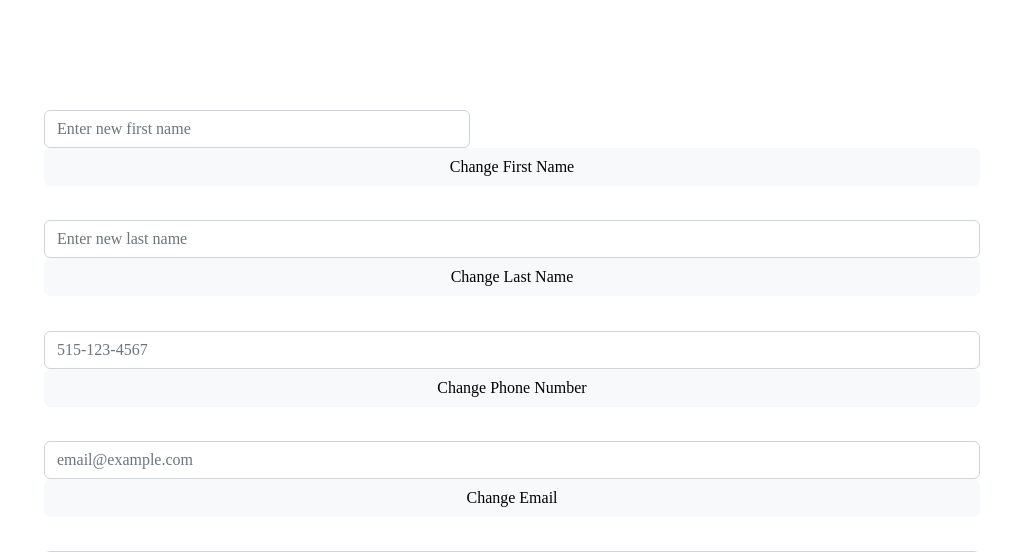
EditUserInfoPage › EditUserInfoPage: Invalid last name input
// input text into lastNameInput
In the field with placeholder "Enter new last name": (512, 240) [44, 220, 980, 258], type "invalid1"
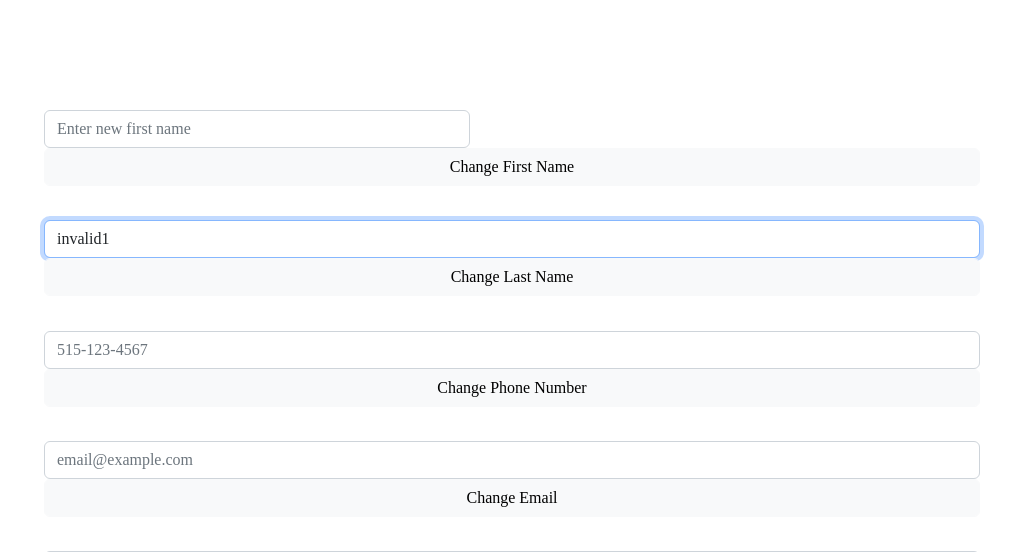
// after the Change last Name button is clicked, the error message should be visible
Click the button "Change Last Name": (512, 278) [44, 258, 980, 296]
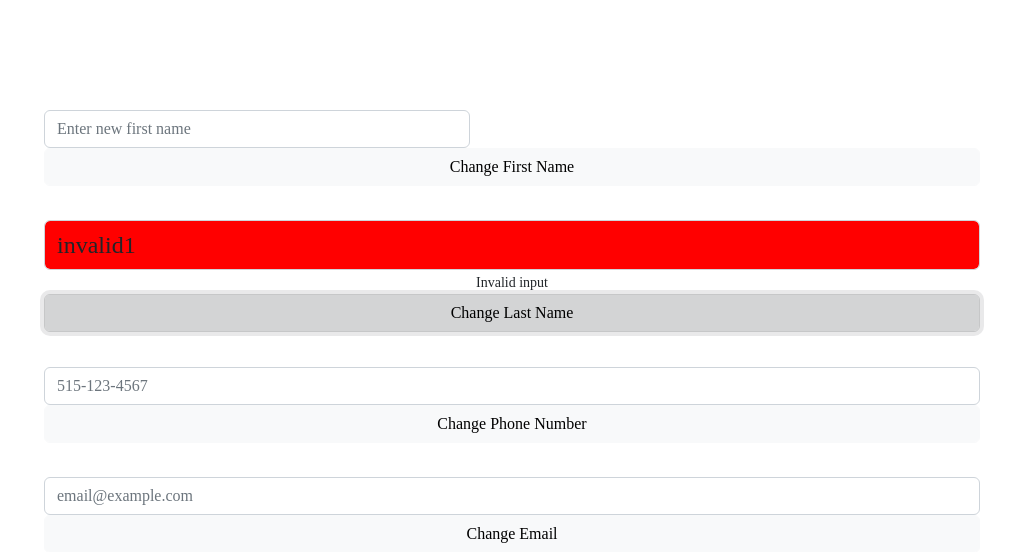
Expected: the text "Invalid input" is shown, [476, 276, 548, 290]
